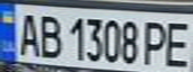0: (103, 16, 121, 64)
1: (63, 12, 84, 61)
3: (81, 15, 106, 63)
8: (118, 17, 142, 66)
A: (12, 9, 42, 57)
B: (33, 11, 63, 60)
E: (160, 17, 193, 69)
P: (139, 17, 172, 68)
